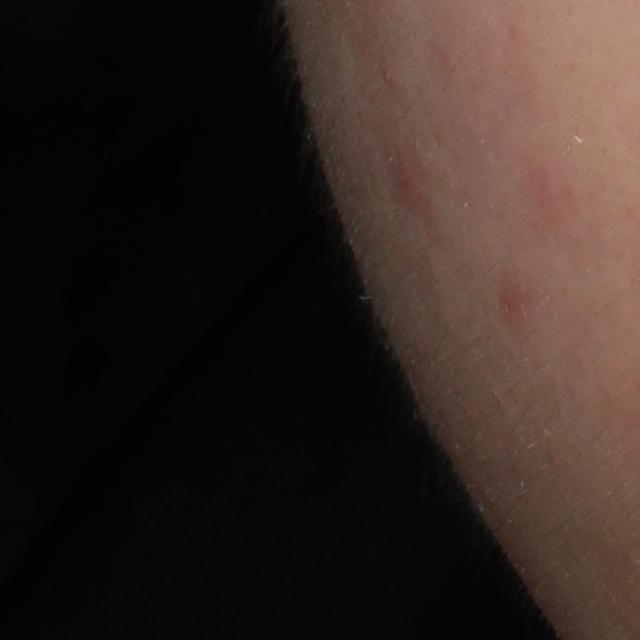papule: (390, 158, 421, 207)
